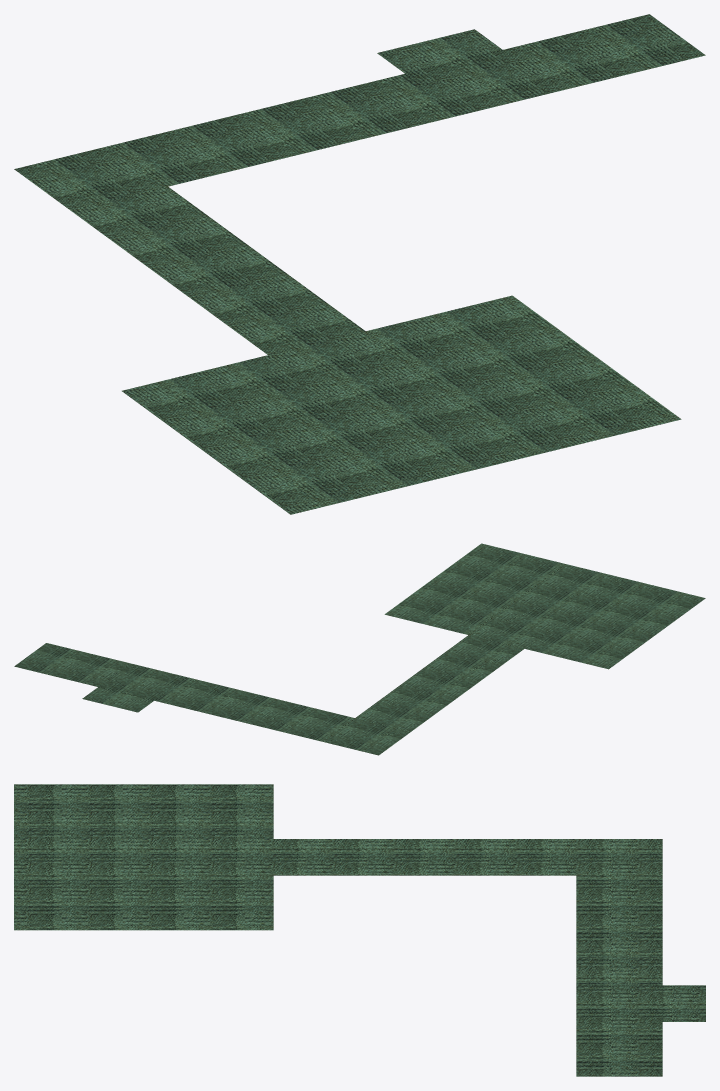
Rendered from Carpet.fbx.
3 renders of one model, top to bottom at view 1: azimuth 30°, elevation 25°; view 2: azimuth 150°, elevation 25°; view 3: azimuth 270°, elevation 25°, orthographic. The views are drawn at different scales.
Visible parts, largest first — view 1: Plane; view 2: Plane; view 3: Plane.
Part boxes in pixels (x1=…): Plane: x1=14, y1=14, x2=705, y2=514; Plane: x1=14, y1=543, x2=705, y2=755; Plane: x1=14, y1=784, x2=705, y2=1076.
Size of the model in its own units: 3200 by 0.000521 by 3200.
